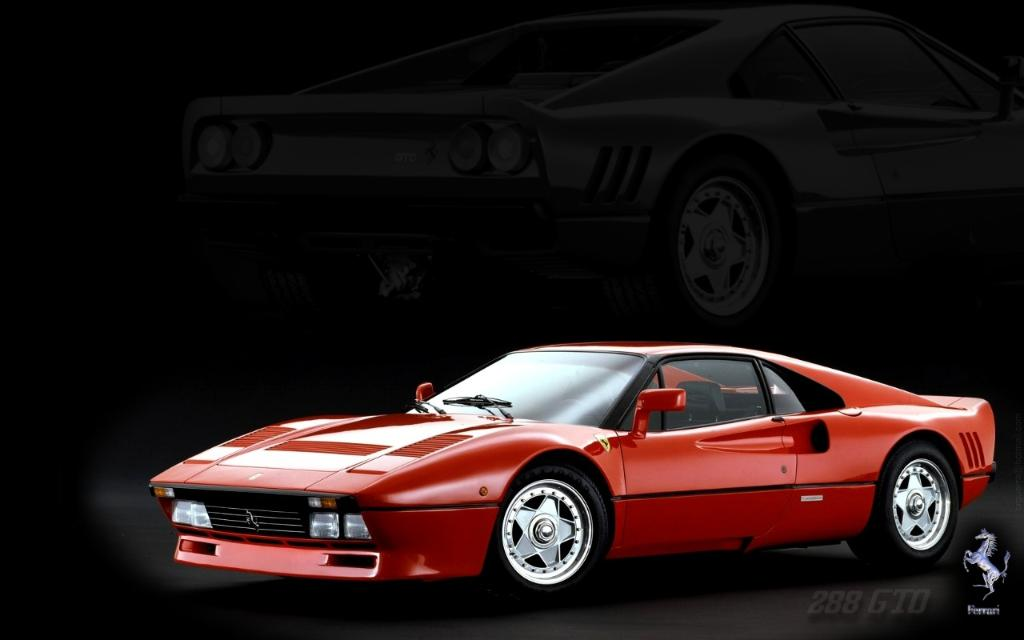Car: (174, 6, 1024, 340), (147, 341, 996, 596)
